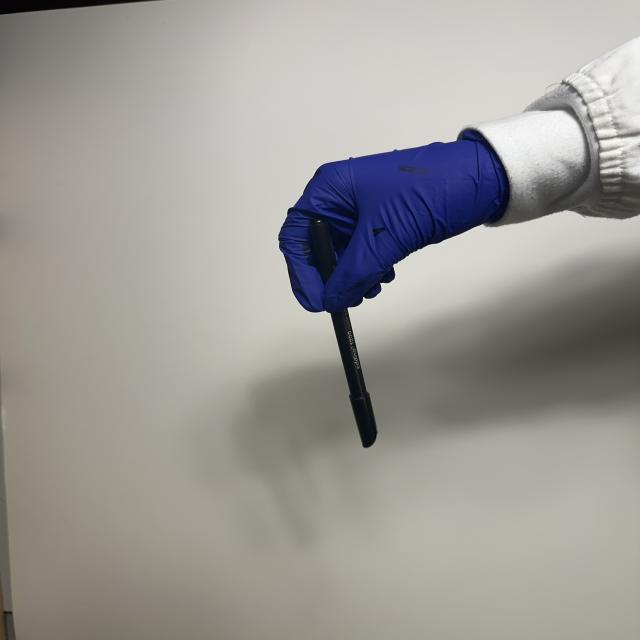gloves_contaminated: (278, 134, 510, 312)
